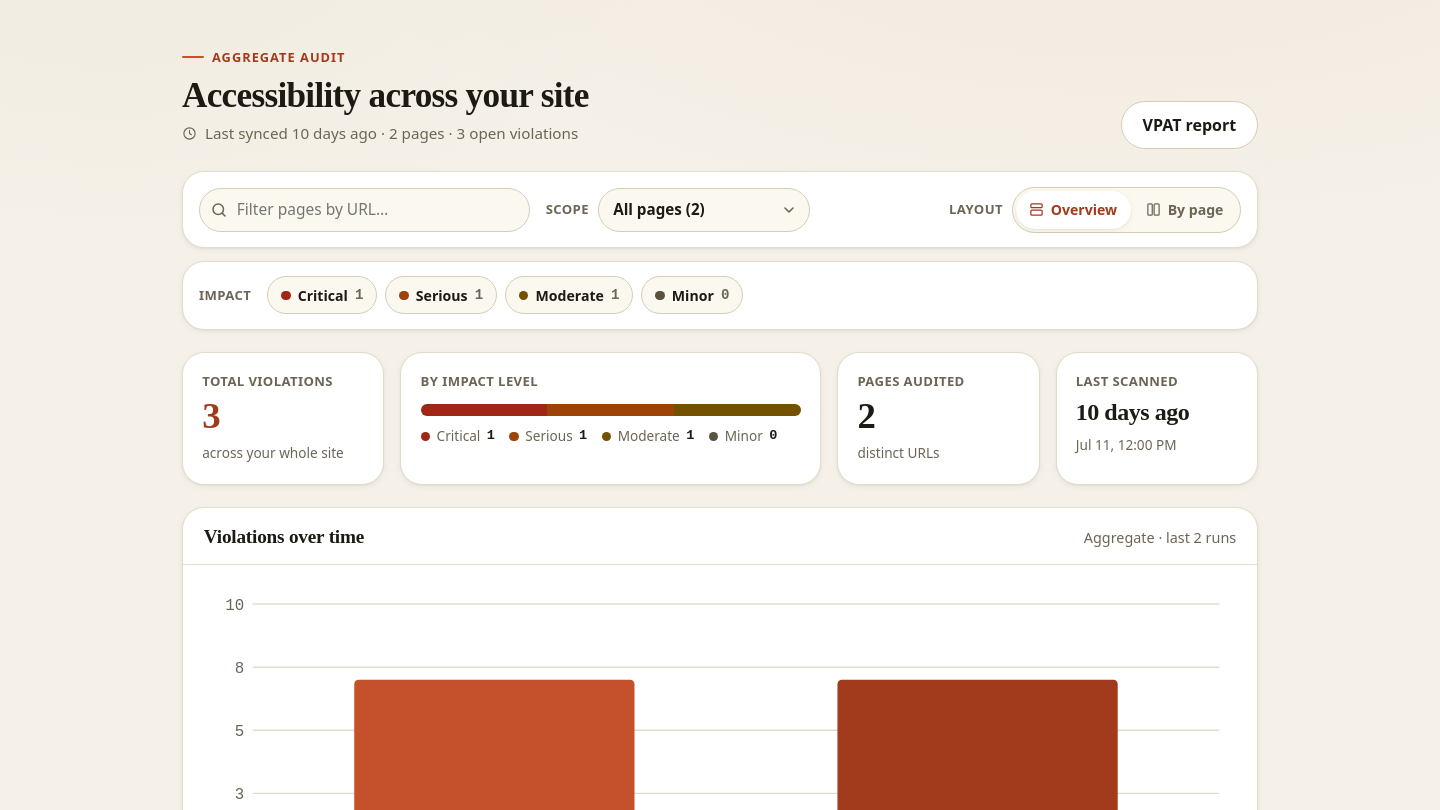
Scenario: DashboardClient › composes search and impact filters on the pages table
In the search field: (364, 210) [199, 188, 530, 232], type "about"
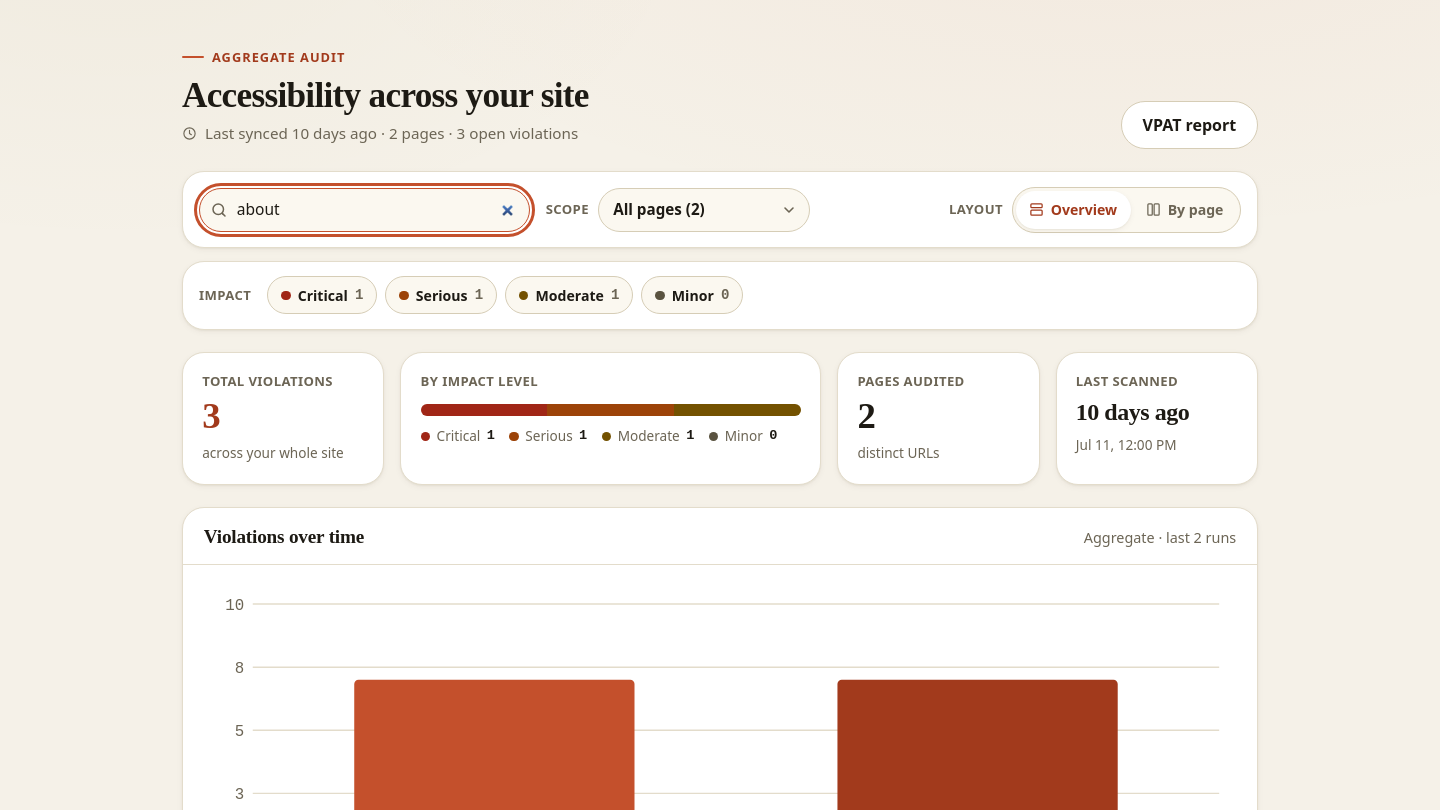
Click the button "Critical 1": (322, 295) [267, 276, 377, 314]
(page scrolled)
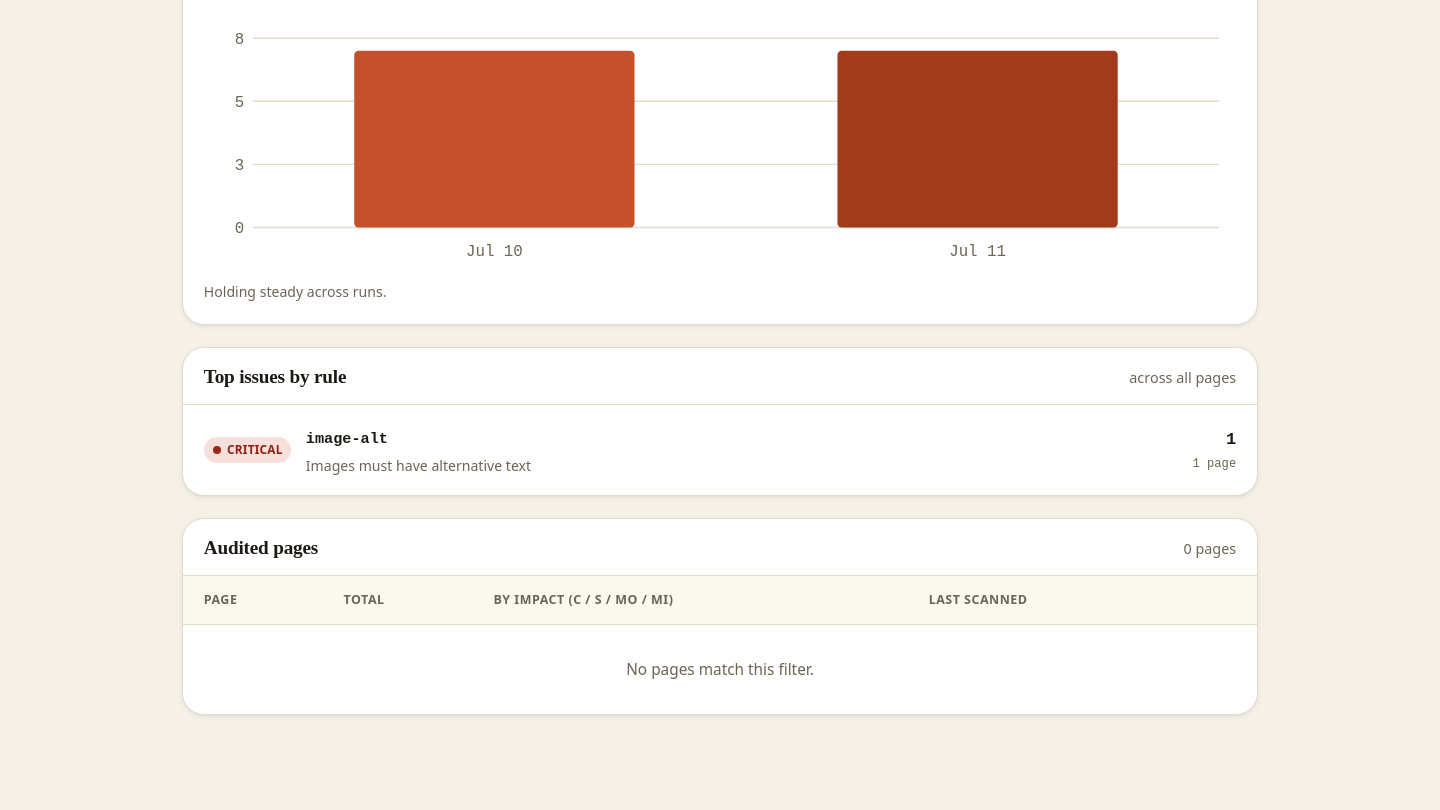
Expected: the text "No pages match this filter." is shown, [183, 625, 1257, 714]
